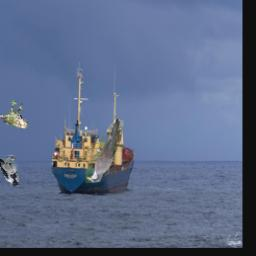Crow: (0, 156, 19, 187)
Cuckoo: (86, 116, 121, 183)
Sparrow: (0, 100, 28, 129)
